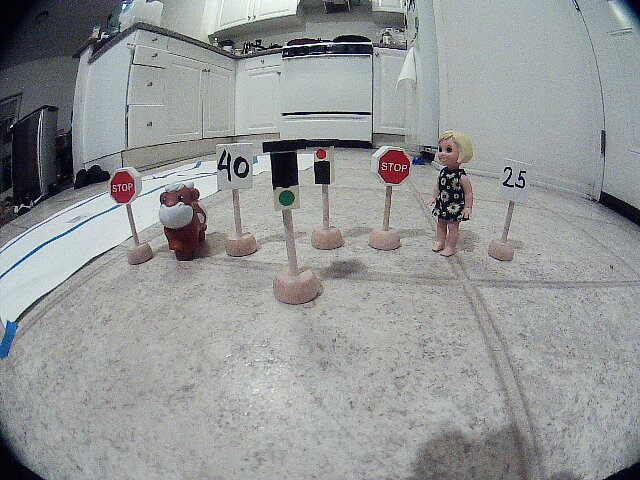Cow: (150, 182, 218, 264)
Green Traffic Light: (253, 134, 307, 215)
Person: (426, 125, 486, 263)
Red Traffic Light: (302, 137, 358, 198)
Speed Limit 25: (485, 152, 553, 205)
Speed Limit 40: (208, 140, 262, 200)
Stop Sign: (371, 135, 426, 197), (101, 167, 152, 210)
